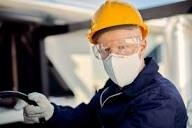safety_goggles: (83, 35, 147, 60)
